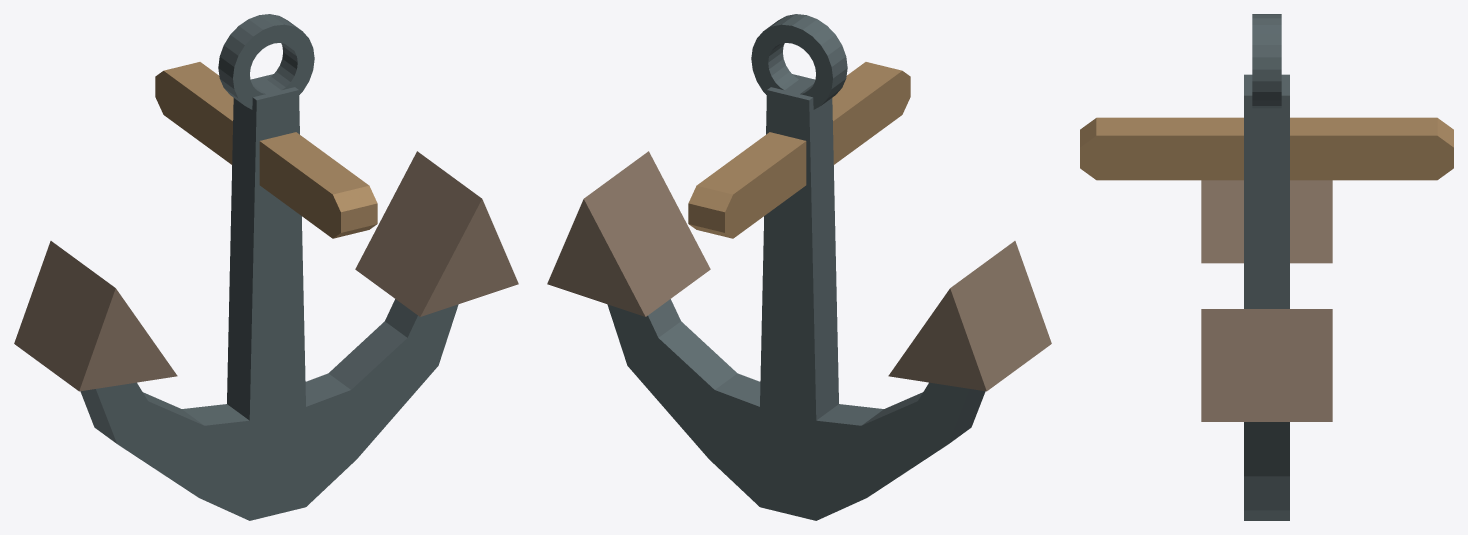
3 renders of one model, left to right at view 1: azimuth 30°, elevation 25°; view 2: azimuth 150°, elevation 25°; view 3: azimuth 270°, elevation 25°, orthographic.
Parts seen in each view (by area): view 1: WholeShankCrownAndCurvedArms, RightWholeBroadFluke, LeftWholeBroadFluke, WholeTransverseStock, WholeOpenAttachmentEye; view 2: WholeShankCrownAndCurvedArms, RightWholeBroadFluke, LeftWholeBroadFluke, WholeTransverseStock, WholeOpenAttachmentEye; view 3: WholeTransverseStock, RightWholeBroadFluke, WholeShankCrownAndCurvedArms, LeftWholeBroadFluke, WholeOpenAttachmentEye.
Boxes of the visible parts, <box> form: WholeShankCrownAndCurvedArms: <box>80,74,458,520</box>; RightWholeBroadFluke: <box>355,151,518,316</box>; LeftWholeBroadFluke: <box>14,241,177,391</box>; WholeTransverseStock: <box>155,62,377,238</box>; WholeOpenAttachmentEye: <box>218,14,314,109</box>; WholeShankCrownAndCurvedArms: <box>607,74,985,520</box>; RightWholeBroadFluke: <box>547,151,710,316</box>; LeftWholeBroadFluke: <box>888,241,1051,391</box>; WholeTransverseStock: <box>688,62,910,238</box>; WholeOpenAttachmentEye: <box>751,14,847,109</box>; WholeTransverseStock: <box>1080,117,1453,180</box>; RightWholeBroadFluke: <box>1201,309,1332,421</box>; WholeShankCrownAndCurvedArms: <box>1244,74,1289,520</box>; LeftWholeBroadFluke: <box>1201,180,1332,263</box>; WholeOpenAttachmentEye: <box>1252,14,1281,108</box>.
Bounding box in the file's own units: 1.56 × 1.64 × 1.14.
